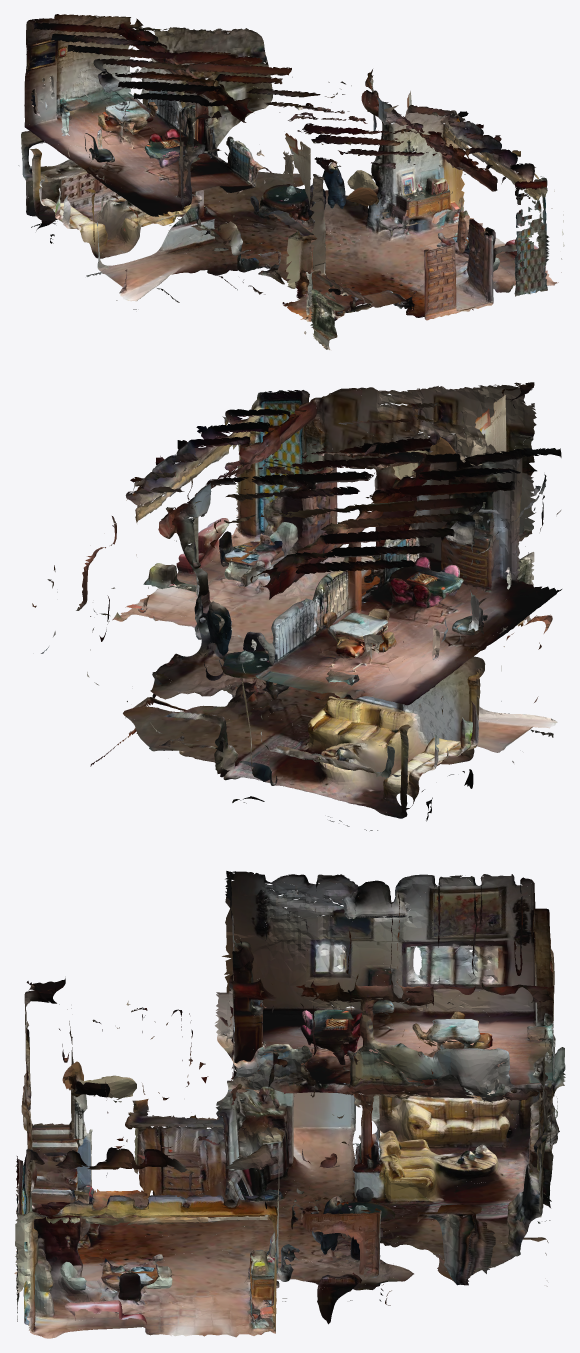
File: esc_baja_muros_03.glb
3 views of the same model, one above another, from view 1: azimuth 30°, elevation 25°; view 2: azimuth 150°, elevation 25°; view 3: azimuth 270°, elevation 25° (orthographic). The views are drawn at different scales.
Visible parts, largest first — view 1: muros_Salon_y_porche_3_GLTF_12, muros_Salon_y_porche_3_GLTF_13, muros_Salon_y_porche_3_GLTF_11, muros_Salon_y_porche_3_GLTF_9, muros_Salon_y_porche_3_GLTF_10, muros_Salon_y_porche_3_GLTF_3, muros_Salon_y_porche_3_GLTF_6, muros_Salon_y_porche_3_GLTF_4, muros_Salon_y_porche_3_GLTF_8, muros_Salon_y_porche_3_GLTF_2, muros_Salon_y_porche_3_GLTF_5, muros_Salon_y_porche_3_GLTF_1 (+2 smaller); view 2: muros_Salon_y_porche_3_GLTF_13, muros_Salon_y_porche_3_GLTF_12, muros_Salon_y_porche_3_GLTF_11, muros_Salon_y_porche_3_GLTF_9, muros_Salon_y_porche_3_GLTF_4, muros_Salon_y_porche_3_GLTF_10, muros_Salon_y_porche_3_GLTF_1, muros_Salon_y_porche_3_GLTF_8, muros_Salon_y_porche_3_GLTF_2, muros_Salon_y_porche_3_GLTF_6, muros_Salon_y_porche_3_GLTF_5, muros_Salon_y_porche_3_GLTF_3 (+2 smaller); view 3: muros_Salon_y_porche_3_GLTF_12, muros_Salon_y_porche_3_GLTF_11, muros_Salon_y_porche_3_GLTF_13, muros_Salon_y_porche_3_GLTF_8, muros_Salon_y_porche_3_GLTF_9, muros_Salon_y_porche_3_GLTF_10, muros_Salon_y_porche_3_GLTF_2, muros_Salon_y_porche_3_GLTF_6, muros_Salon_y_porche_3_GLTF_3, muros_Salon_y_porche_3_GLTF_7, muros_Salon_y_porche_3_GLTF_4, muros_Salon_y_porche_3_GLTF_5 (+2 smaller).
Boxes of the visible parts, box(x1,y1,x2,y2) form: muros_Salon_y_porche_3_GLTF_12: box(21, 21, 550, 349); muros_Salon_y_porche_3_GLTF_13: box(22, 24, 564, 321); muros_Salon_y_porche_3_GLTF_11: box(34, 33, 554, 333); muros_Salon_y_porche_3_GLTF_9: box(36, 15, 534, 349); muros_Salon_y_porche_3_GLTF_10: box(25, 14, 546, 317); muros_Salon_y_porche_3_GLTF_3: box(26, 18, 541, 313); muros_Salon_y_porche_3_GLTF_6: box(34, 27, 493, 315); muros_Salon_y_porche_3_GLTF_4: box(18, 28, 558, 317); muros_Salon_y_porche_3_GLTF_8: box(24, 42, 516, 298); muros_Salon_y_porche_3_GLTF_2: box(32, 14, 517, 308); muros_Salon_y_porche_3_GLTF_5: box(26, 26, 546, 300); muros_Salon_y_porche_3_GLTF_1: box(49, 27, 561, 333); muros_Salon_y_porche_3_GLTF_13: box(76, 387, 552, 815); muros_Salon_y_porche_3_GLTF_12: box(81, 407, 559, 799); muros_Salon_y_porche_3_GLTF_11: box(32, 382, 534, 810); muros_Salon_y_porche_3_GLTF_9: box(138, 410, 561, 771); muros_Salon_y_porche_3_GLTF_4: box(90, 390, 506, 817); muros_Salon_y_porche_3_GLTF_10: box(47, 403, 541, 769); muros_Salon_y_porche_3_GLTF_1: box(93, 383, 553, 812); muros_Salon_y_porche_3_GLTF_8: box(54, 385, 560, 766); muros_Salon_y_porche_3_GLTF_2: box(169, 427, 561, 803); muros_Salon_y_porche_3_GLTF_6: box(126, 400, 535, 826); muros_Salon_y_porche_3_GLTF_5: box(138, 382, 549, 816); muros_Salon_y_porche_3_GLTF_3: box(104, 382, 557, 830); muros_Salon_y_porche_3_GLTF_12: box(16, 871, 559, 1337); muros_Salon_y_porche_3_GLTF_11: box(16, 875, 549, 1325); muros_Salon_y_porche_3_GLTF_13: box(15, 874, 565, 1338); muros_Salon_y_porche_3_GLTF_8: box(25, 874, 547, 1335); muros_Salon_y_porche_3_GLTF_9: box(71, 871, 554, 1327); muros_Salon_y_porche_3_GLTF_10: box(34, 874, 553, 1243); muros_Salon_y_porche_3_GLTF_2: box(31, 875, 555, 1300); muros_Salon_y_porche_3_GLTF_6: box(16, 952, 553, 1271); muros_Salon_y_porche_3_GLTF_3: box(55, 874, 564, 1336); muros_Salon_y_porche_3_GLTF_7: box(17, 874, 552, 1337); muros_Salon_y_porche_3_GLTF_4: box(14, 907, 565, 1334); muros_Salon_y_porche_3_GLTF_5: box(16, 890, 552, 1278).
Size of the model in its own units: 10.49 by 6.42 by 11.45.
14 materials, 14 textured.
